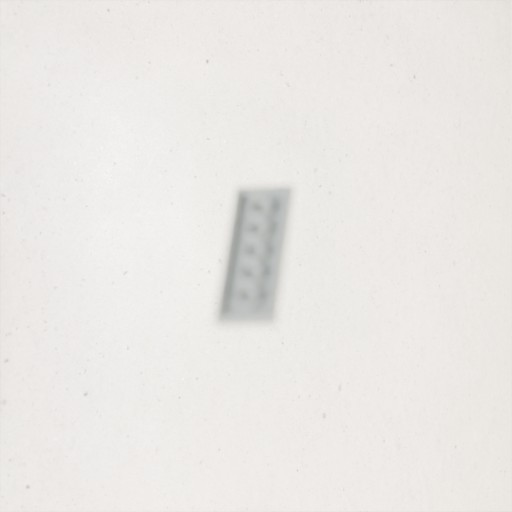lego: (213, 184, 295, 328)
